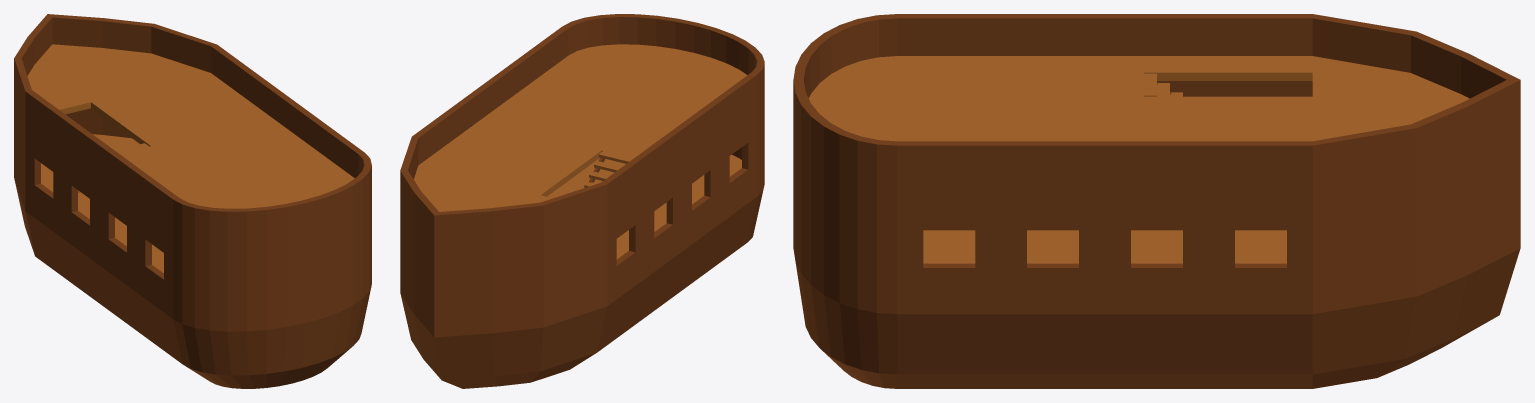
Rendered from DOUBLE_DECK.obj.
3 views of the same model, side by side, from view 1: azimuth 30°, elevation 25°; view 2: azimuth 150°, elevation 25°; view 3: azimuth 270°, elevation 25° (orthographic). The views are drawn at different scales.
Size of the model in its own units: 6 by 6 by 14.
